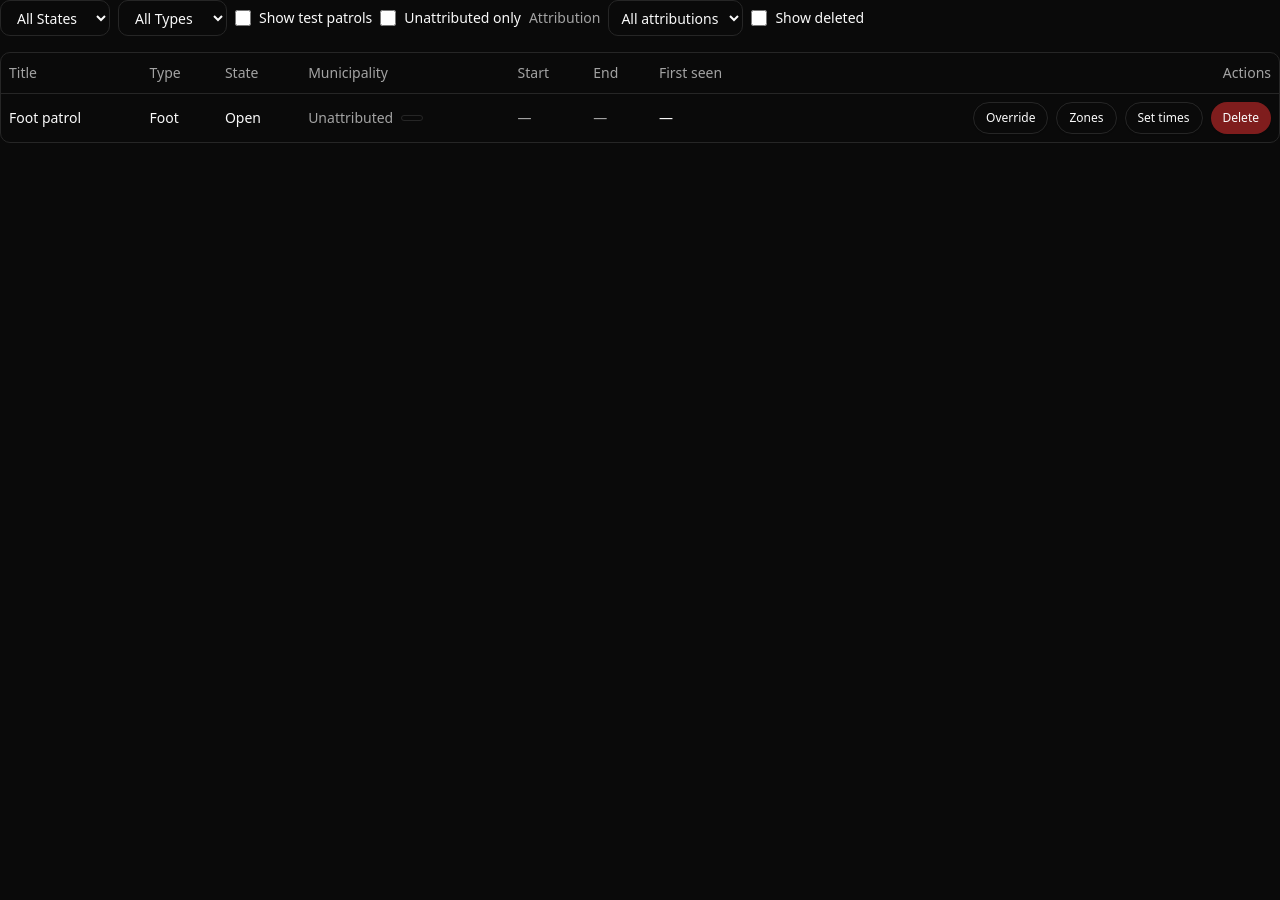
Test: PatrolsTable — zone coverage override › badges a title_hint-covered zone as 'Included by caption'
Click the button with test id "zone-override-button-p1" at (1087, 118), box [1056, 102, 1117, 134]
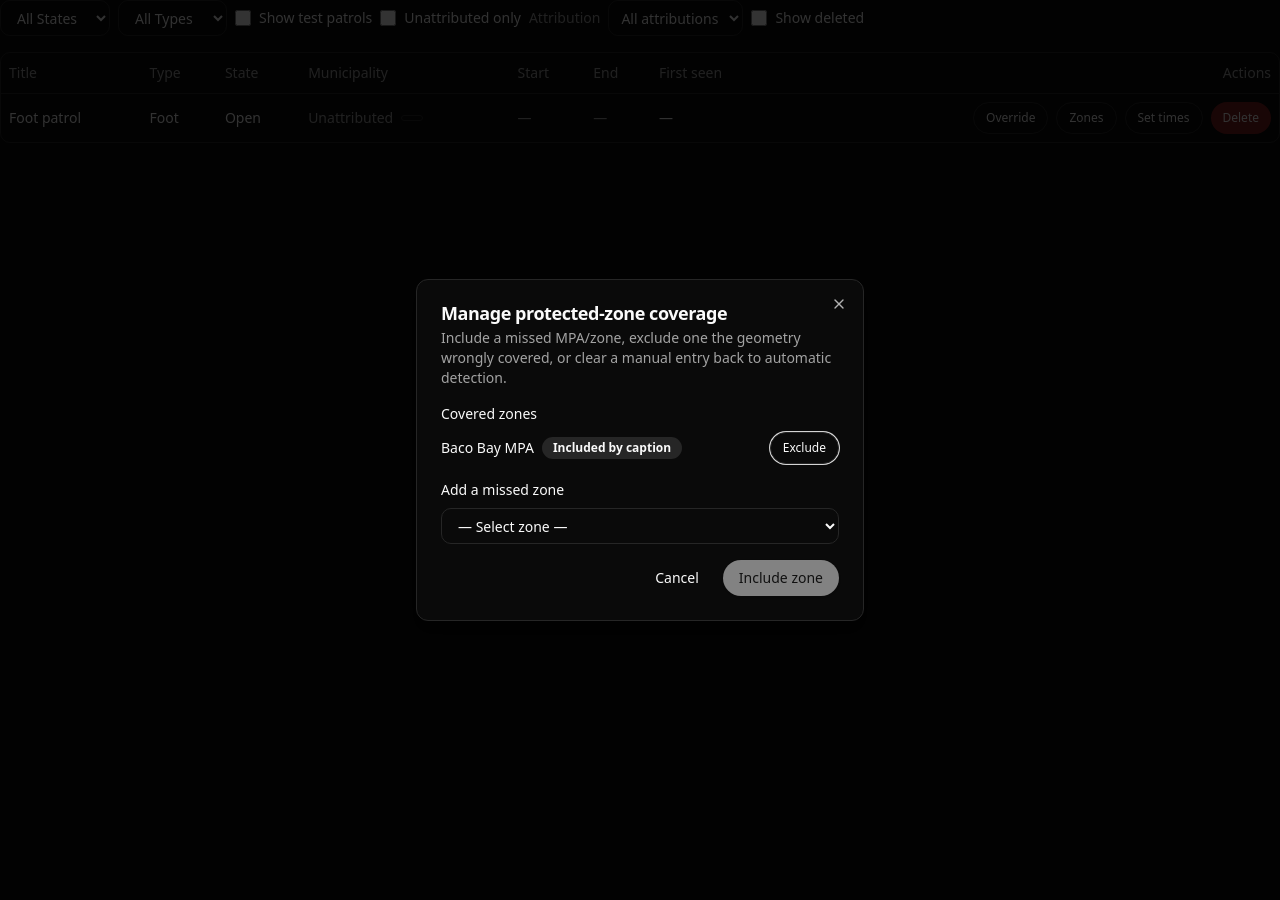
Now the text with test id "zone-coverage-badge-z5" reads "Included by caption", box [553, 439, 671, 456]
